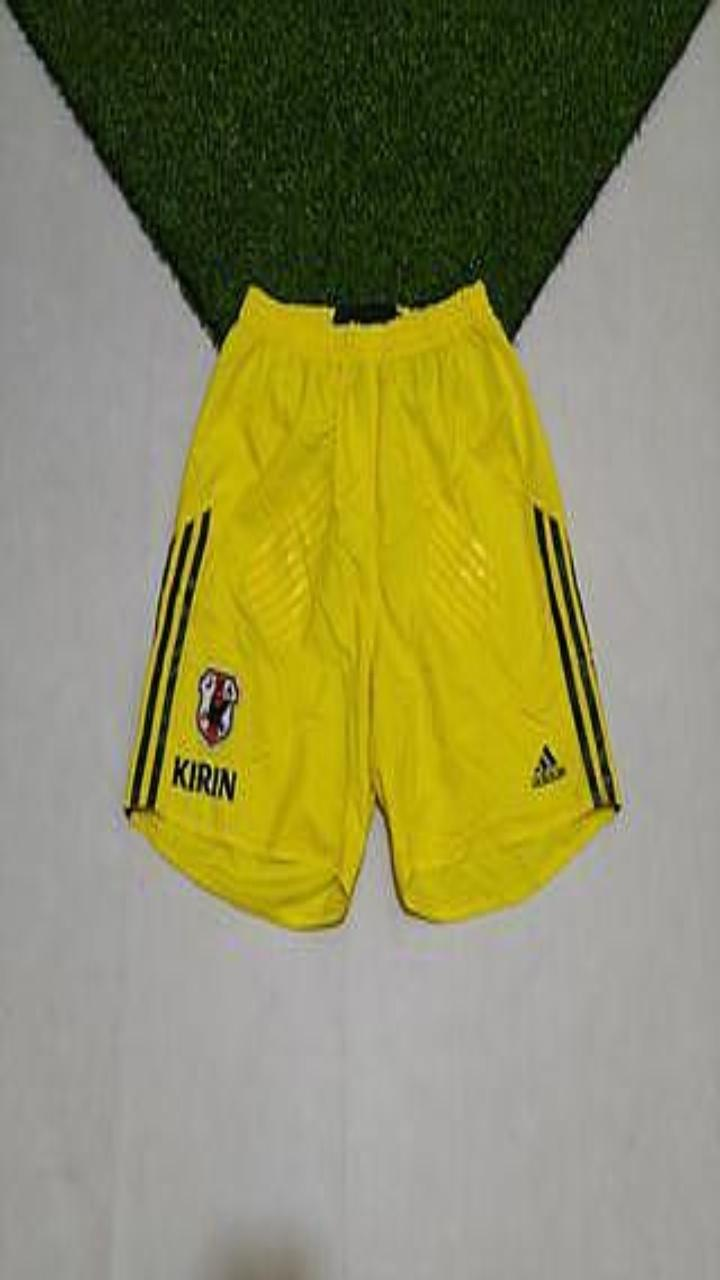Shorts: (125, 281, 619, 927)
